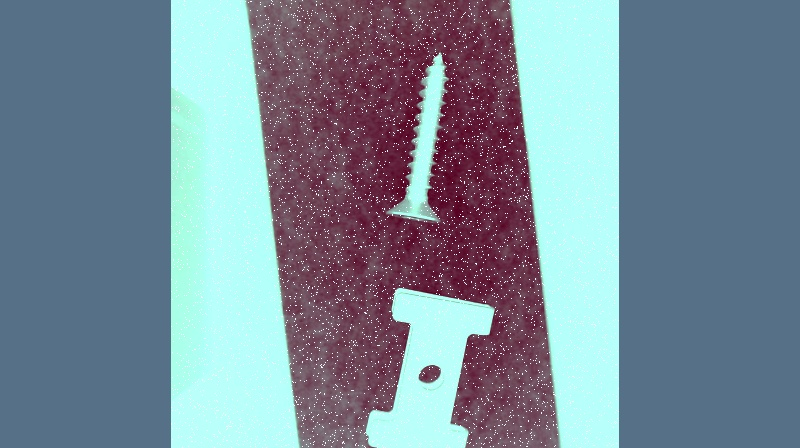O002: (364, 290, 494, 447)
S001: (386, 53, 449, 226)
